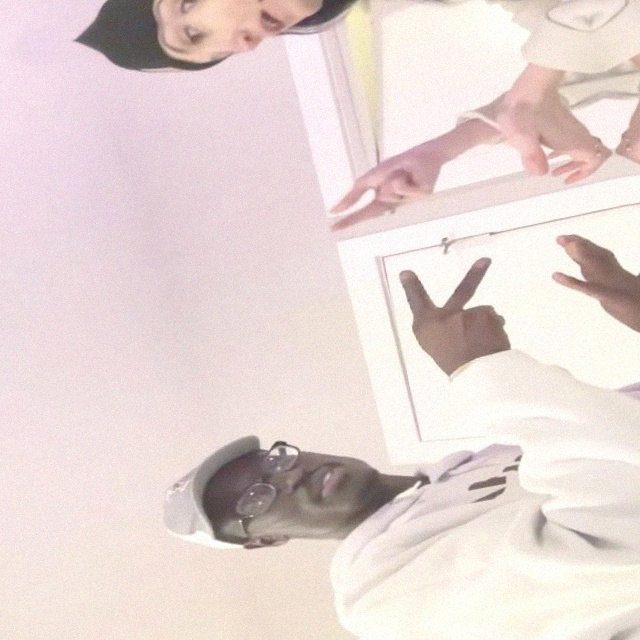Scissors: (391, 250, 513, 382), (319, 148, 446, 231)
